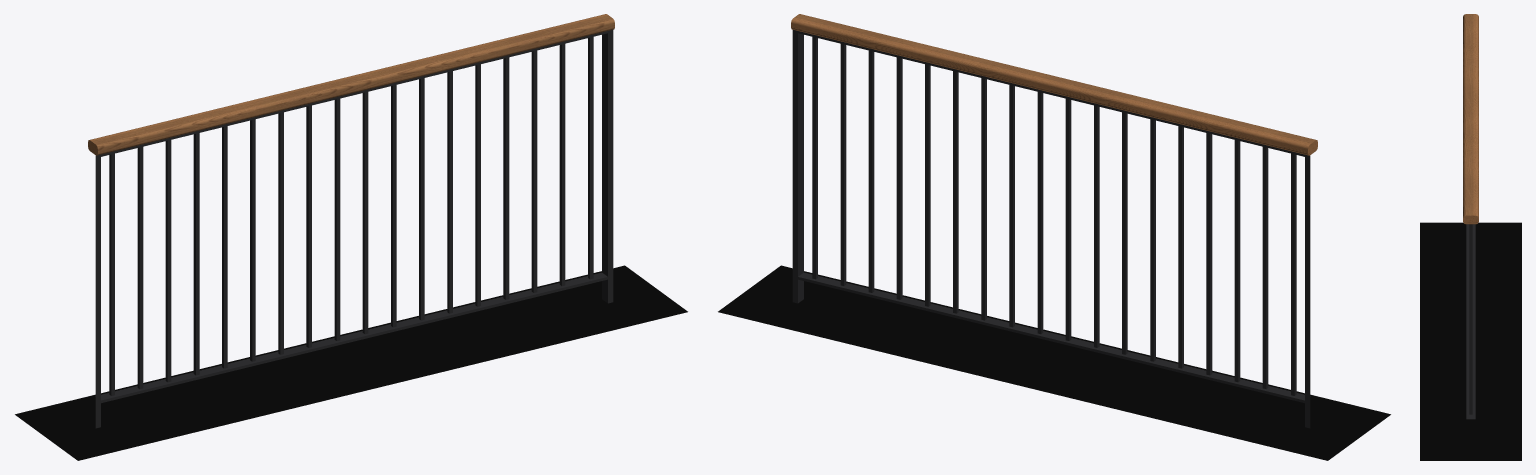
The model's file is railing.glb.
3 views of the same model, side by side, from view 1: azimuth 30°, elevation 25°; view 2: azimuth 150°, elevation 25°; view 3: azimuth 270°, elevation 25° (orthographic). The views are drawn at different scales.
Parts seen in each view (by area): view 1: railing_LOD0, railing_Shadow; view 2: railing_LOD0, railing_Shadow; view 3: railing_Shadow, railing_LOD0.
Boxes of the visible parts, <box> form: railing_LOD0: <box>88,14,614,428</box>; railing_Shadow: <box>15,265,687,460</box>; railing_LOD0: <box>791,14,1317,428</box>; railing_Shadow: <box>718,265,1390,460</box>; railing_Shadow: <box>1420,222,1521,460</box>; railing_LOD0: <box>1463,14,1478,419</box>.
Size of what is drawn, in the model's own units: 2.36 by 1.05 by 0.426.
Materials: 3 (2 with a texture image).
